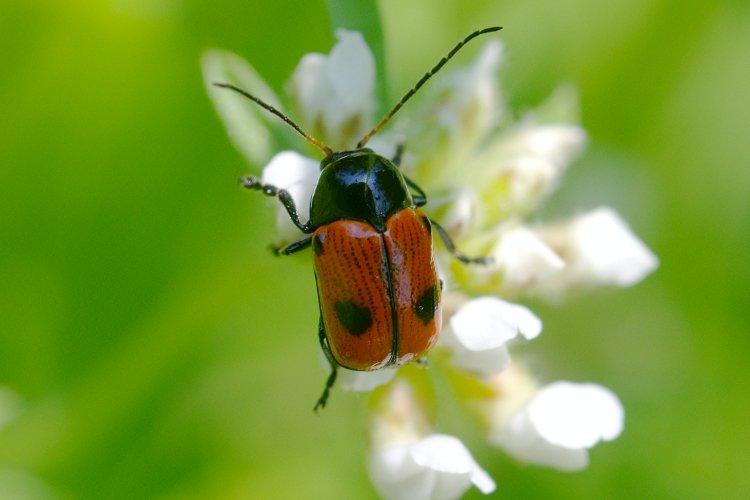Cryptocephalus_bipunctatus: (208, 24, 507, 422)
